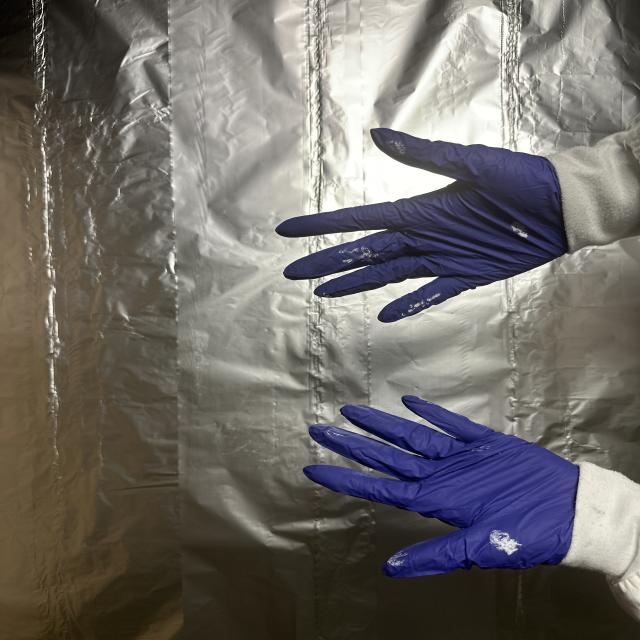gloves_contaminated: (276, 129, 568, 322), (304, 396, 578, 577)
